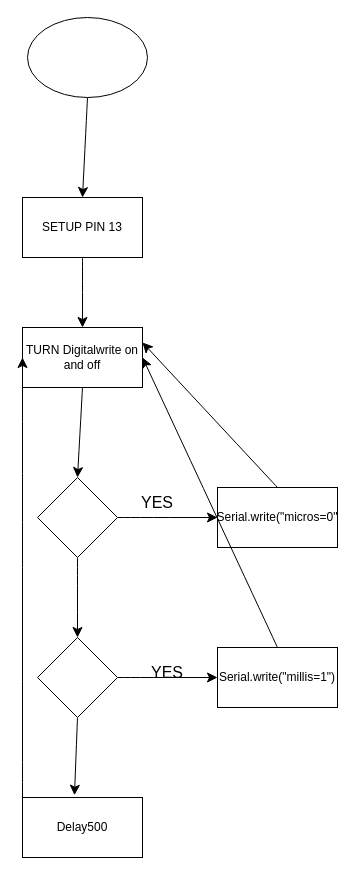
This 355x875 diagram has some shape labels left out. The centre of each missing label's shape, as x and y in pixels:
if attachInterrupt =0: point 77,517
if attachInterrupt =1: point 77,677
START: point 87,57
